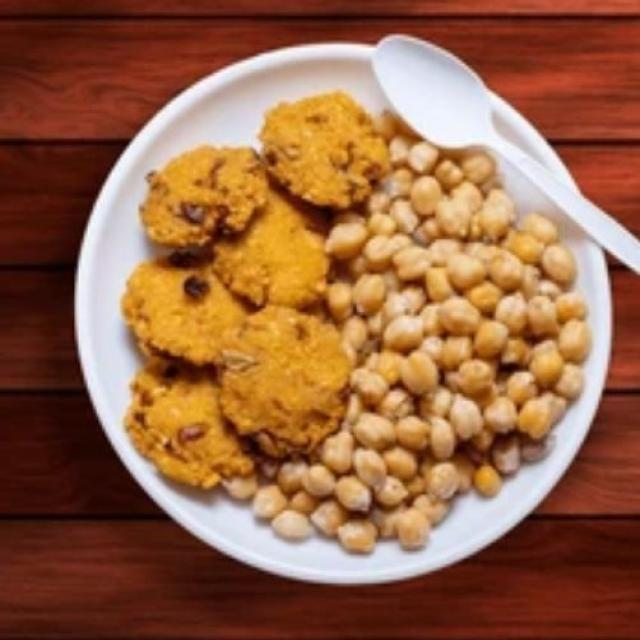SUNDAL: (218, 109, 590, 553)
VADA: (121, 89, 392, 495)
